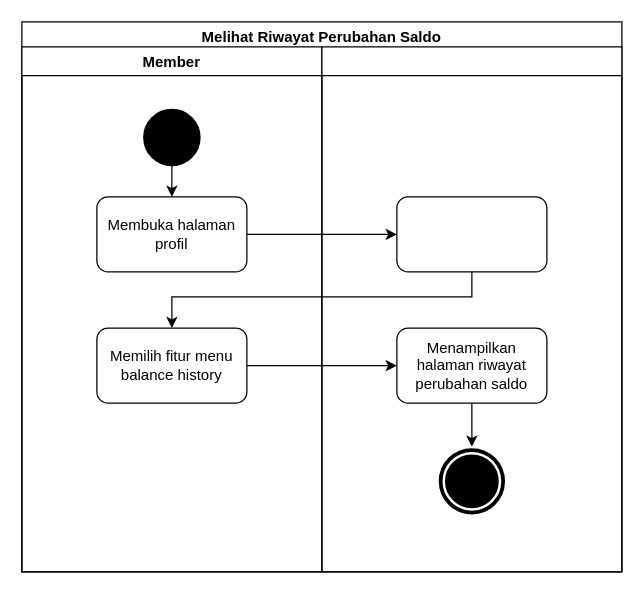
Some shapes in this 644 by 594 pixel diagram are drawn without their labels. The box of each missing label's shape, as (x1, y1, x2, y2) in pixels:
Menampilkan halaman profil: (396, 196, 547, 272)
Sistem: (321, 46, 622, 572)
